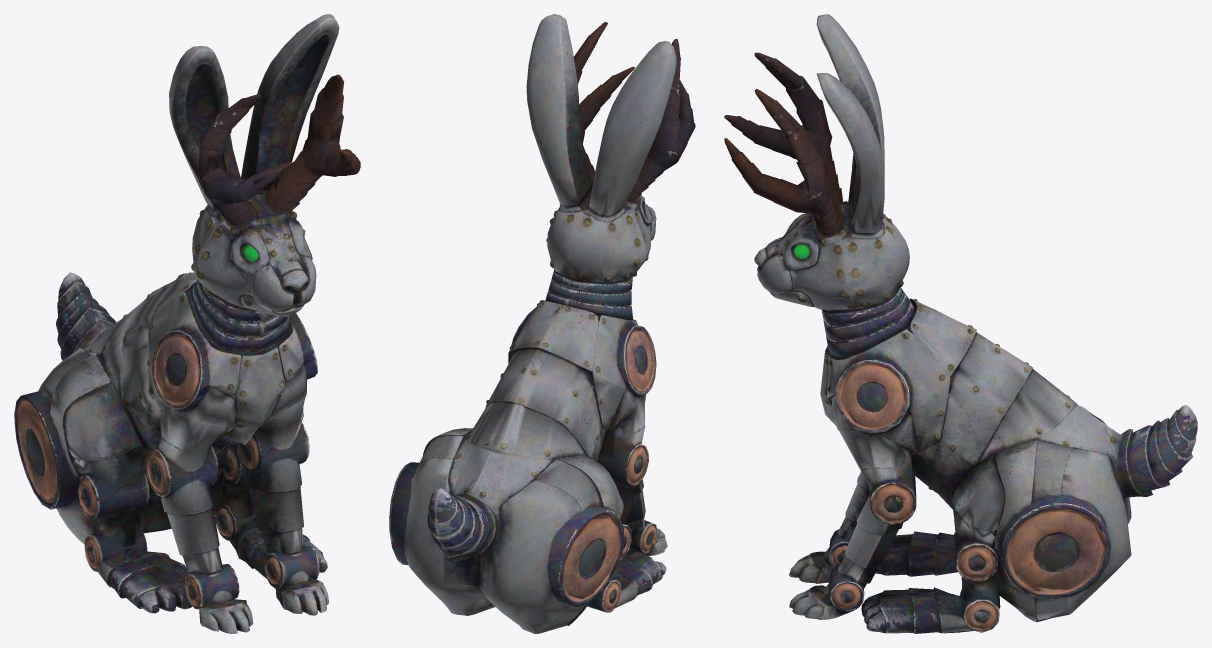
File: MZ4250 - Jackalope Steel Defender.glb
The picture shows the model from 3 angles, left to right: view 1: azimuth 30°, elevation 25°; view 2: azimuth 150°, elevation 25°; view 3: azimuth 270°, elevation 25°; orthographic projection. The views are drawn at different scales.
Parts seen in each view (by area): view 1: Jackalope Steel Defender.001; view 2: Jackalope Steel Defender.001; view 3: Jackalope Steel Defender.001.
Boxes of the visible parts, <box> form: Jackalope Steel Defender.001: <box>14,14,360,633</box>; Jackalope Steel Defender.001: <box>389,14,695,633</box>; Jackalope Steel Defender.001: <box>724,14,1197,633</box>.
Bounding box in the file's own units: 40.01 × 98.09 × 76.96.
Materials: 1 (1 with a texture image).
